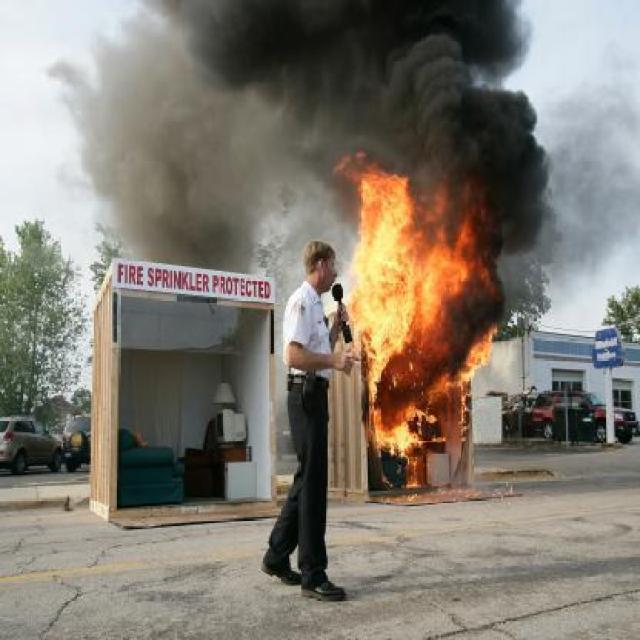Fire: (346, 156, 504, 494)
Smoke: (59, 0, 340, 264), (342, 0, 536, 152)
